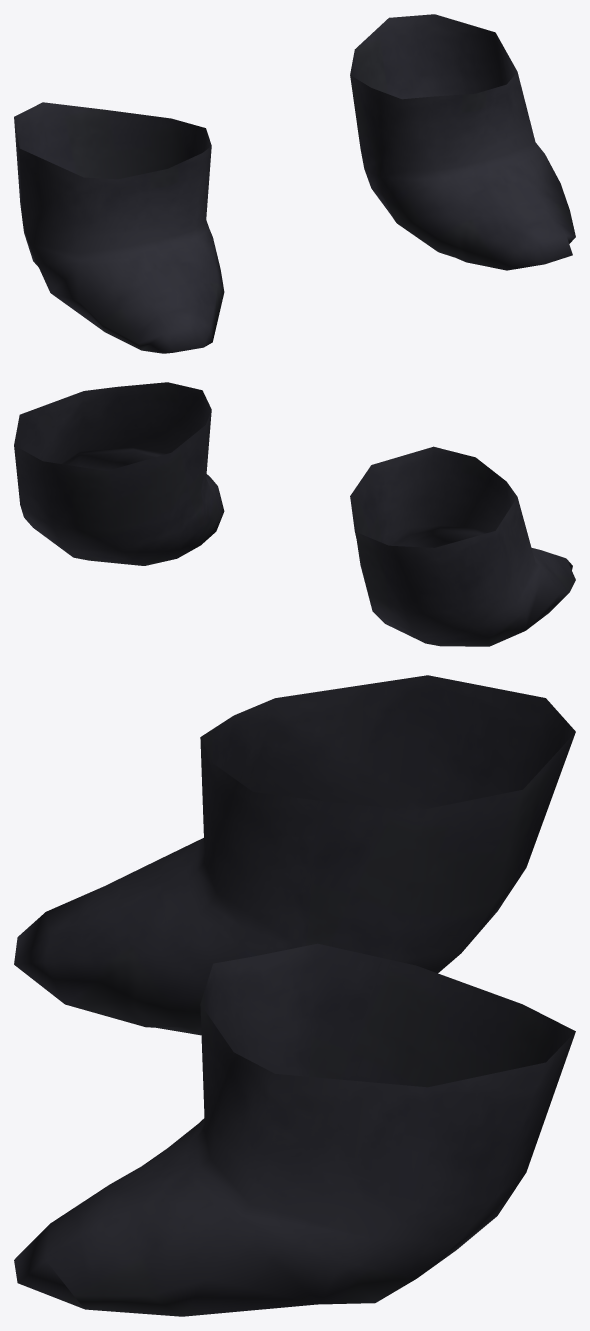
File: pies.FBX
3 views of the same model, one above another, from view 1: azimuth 30°, elevation 25°; view 2: azimuth 150°, elevation 25°; view 3: azimuth 270°, elevation 25° (orthographic). The views are drawn at different scales.
Parts seen in each view (by area): view 1: pies; view 2: pies; view 3: pies.
Part boxes in pixels (x1,y1,x2,y2): pies: [14, 14, 575, 353]; pies: [14, 382, 575, 646]; pies: [14, 675, 575, 1316].
Size of the model in its own units: 4.66 by 1.45 by 2.61.
1 material, 1 textured.
